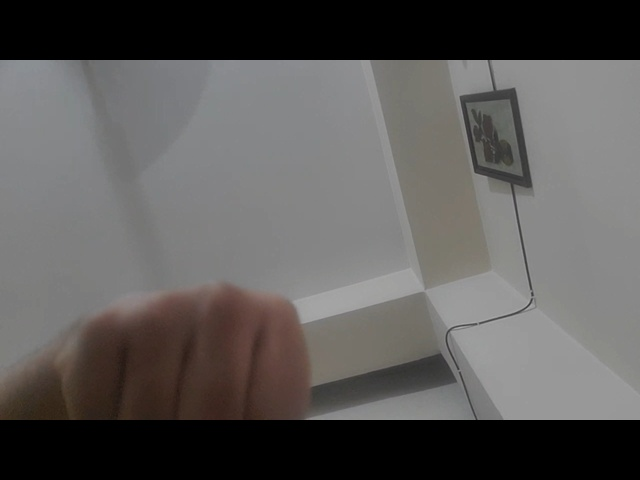Yes: (26, 267, 338, 420)
